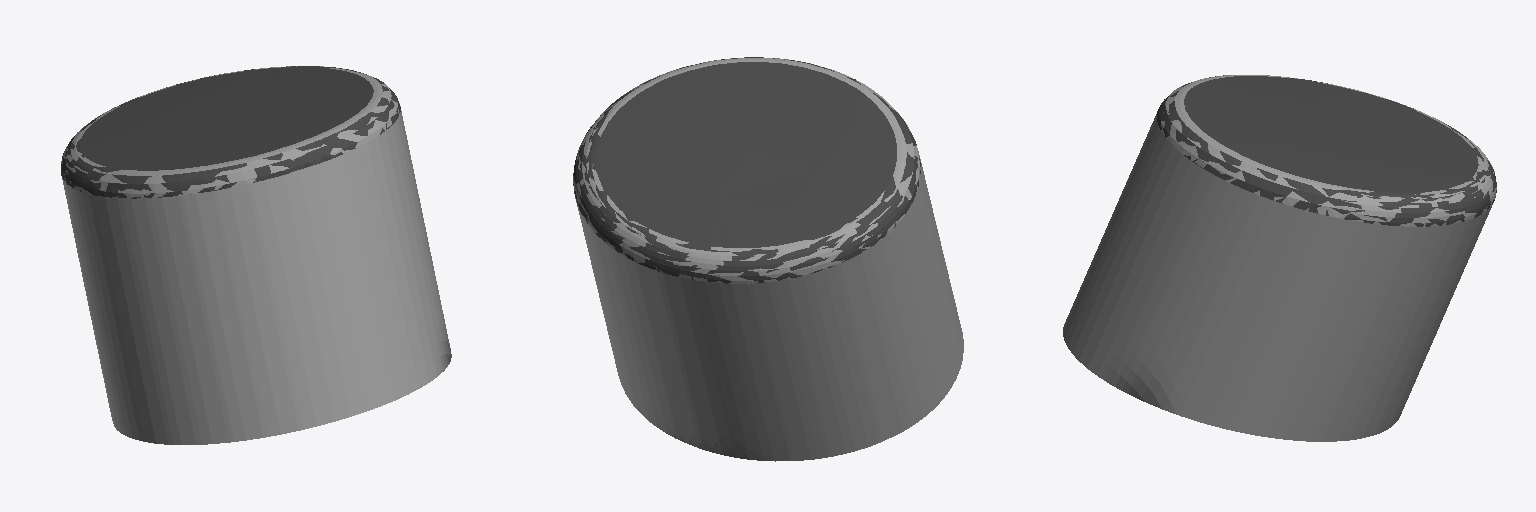
The picture shows the model from 3 angles: view 1: azimuth 30°, elevation 25°; view 2: azimuth 150°, elevation 25°; view 3: azimuth 270°, elevation 25°; orthographic projection.
Visible parts, largest first — view 1: button_system_r_body.003; view 2: button_system_r_body.003; view 3: button_system_r_body.003.
Boxes of the visible parts, <box> form: button_system_r_body.003: <box>61,66,451,444</box>; button_system_r_body.003: <box>573,57,963,461</box>; button_system_r_body.003: <box>1063,75,1496,441</box>.
Size of the model in its own units: 0.0057 by 0.0055 by 0.0071.
Materials: 1 (1 with a texture image).